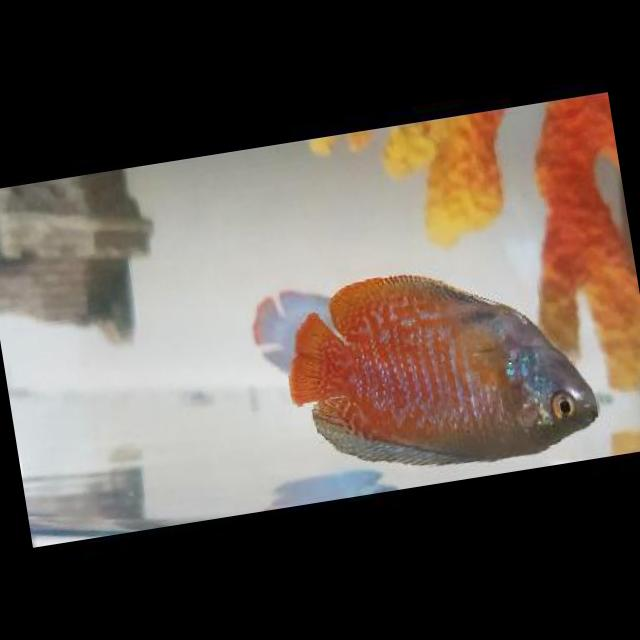Gourami: (270, 252, 608, 494)
